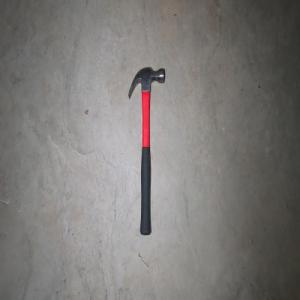Hammer: (127, 66, 165, 236)
